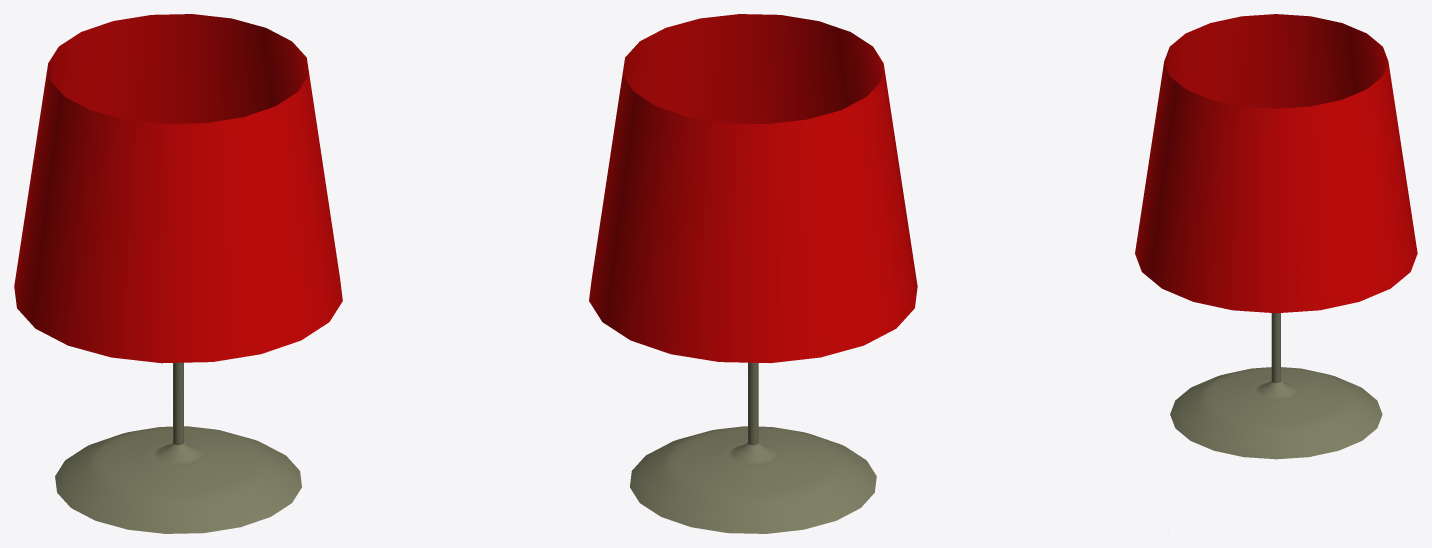
3 views of the same model, side by side, from view 1: azimuth 30°, elevation 25°; view 2: azimuth 150°, elevation 25°; view 3: azimuth 270°, elevation 25° (orthographic). The views are drawn at different scales.
Parts seen in each view (by area): view 1: pCone1; view 2: pCone1; view 3: pCone1.
Boxes of the visible parts, x1,y1,x2,y2 form: pCone1: [14, 14, 342, 533]; pCone1: [589, 14, 917, 533]; pCone1: [1135, 14, 1417, 459].
Bounding box in the file's own units: 2.87 × 2.82 × 3.33.
